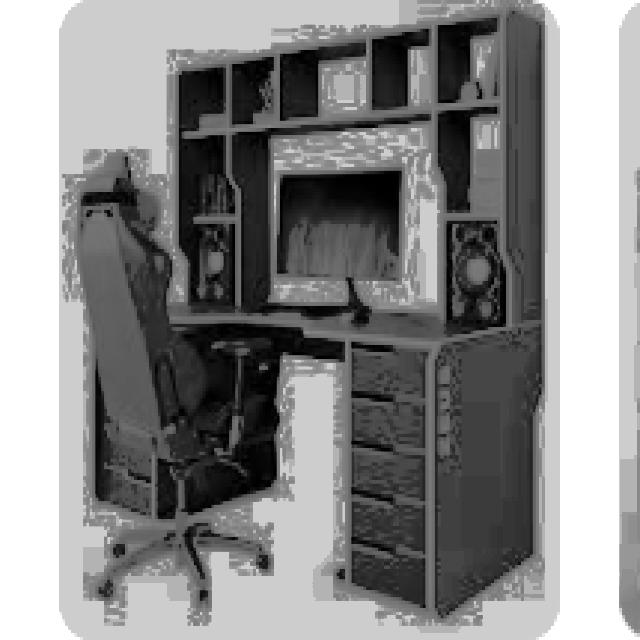book: (27, 156, 298, 614)
paper: (431, 222, 526, 349), (188, 202, 252, 337)
table: (150, 59, 564, 634)
